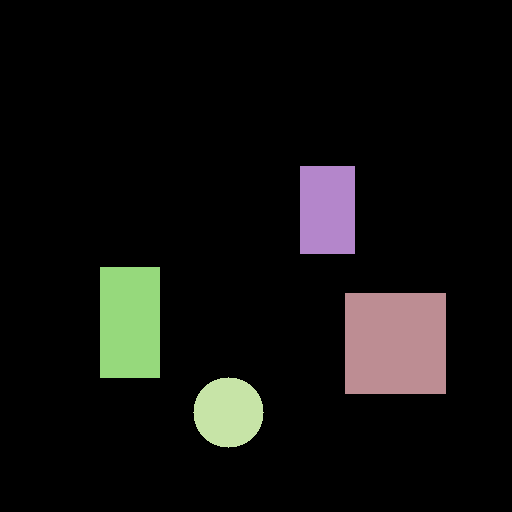circle: (193, 377, 263, 447)
rectangle: (100, 267, 159, 377), (300, 166, 354, 253)
square: (345, 293, 445, 393)
